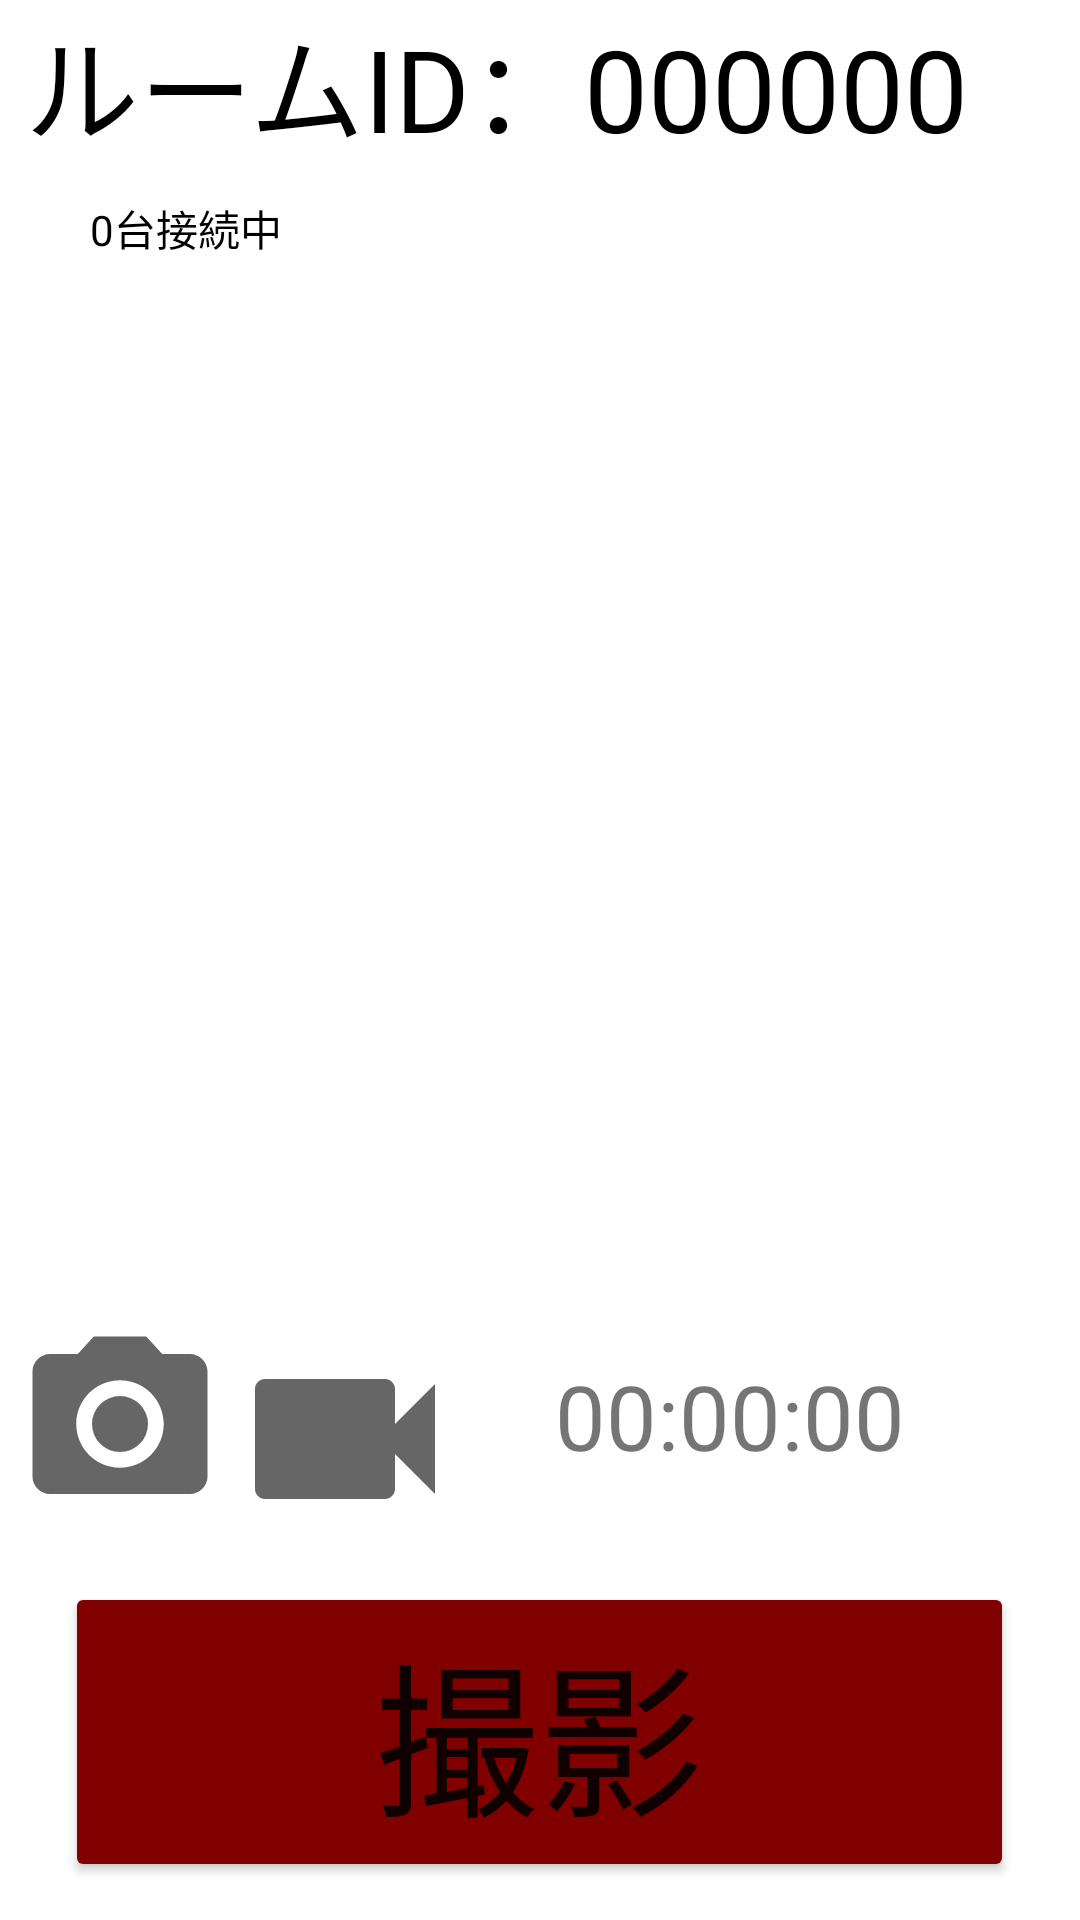

Named icons in this screenshot (1080w x 1920h) and their bounding boxes, (x1, y1, x2, y2):
videocam: (255, 1379, 435, 1499)
